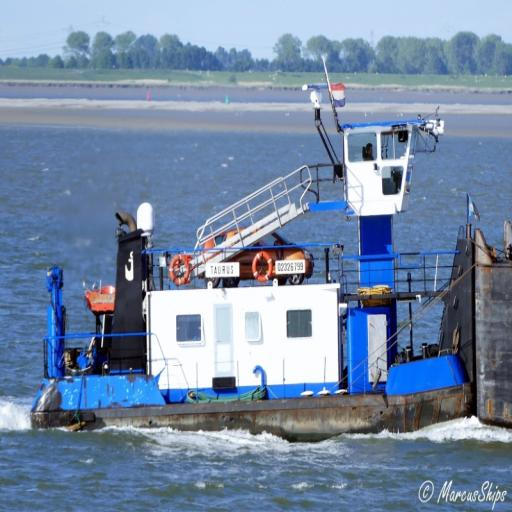tugboat: (27, 55, 485, 455)
